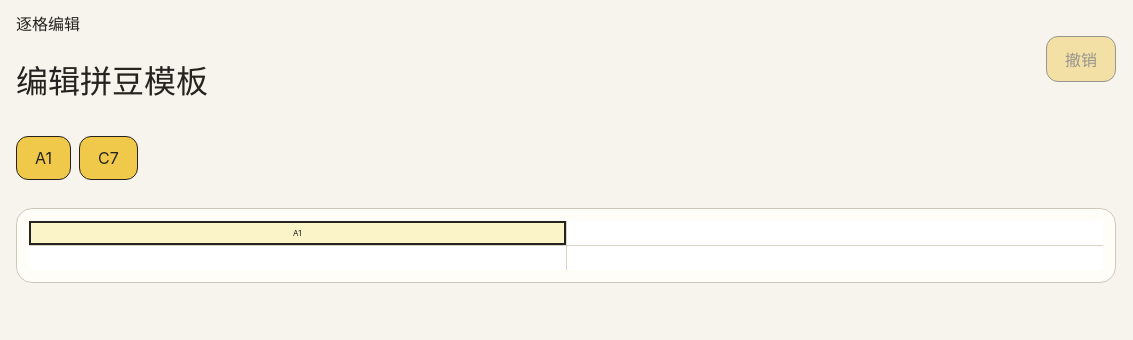
Test: does not change a locked outline cell
The image size is (1133, 340).
What coordinates should you click on to do the following:
click the button named "选择色号C7"
I would click on:
 (108, 158)
Its box is [79,136,138,180].
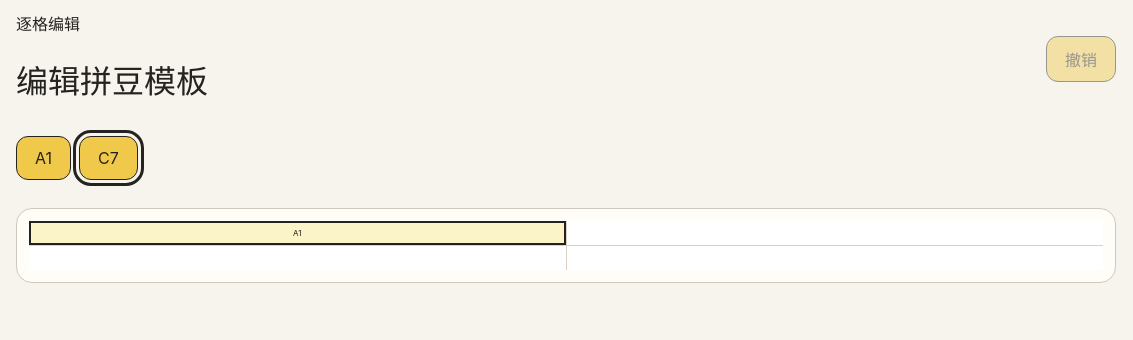
What coordinates should you click on to do the following:
click the cell named "第1行第1列 A1 已锁定"
I would click on:
 (297, 233)
Its box is [29,221,566,245].
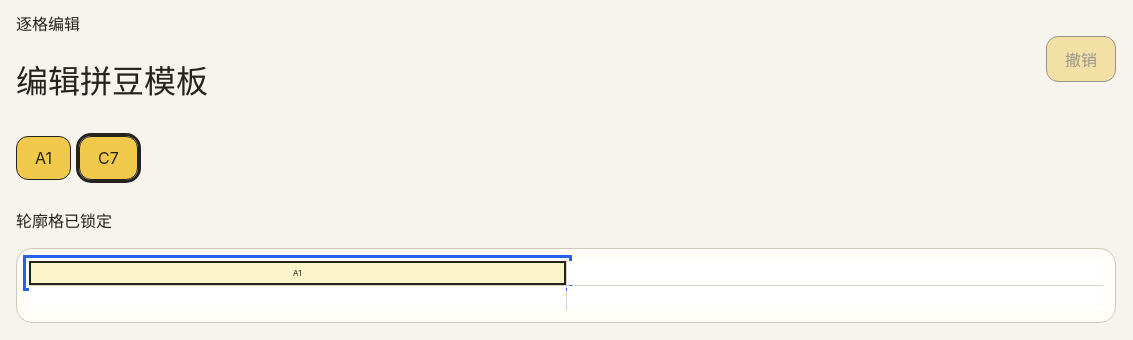
Check: the message reads "轮廓格已锁定", box [16,211,112,231]
